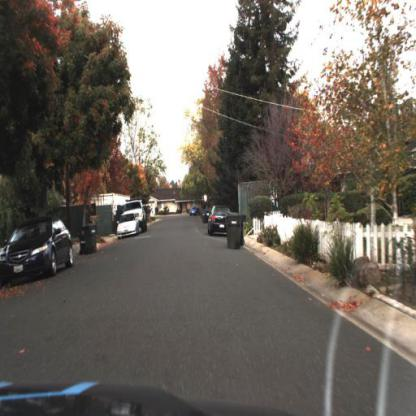car: (2, 216, 83, 299), (204, 205, 236, 238), (115, 211, 146, 242), (121, 198, 146, 226), (121, 192, 144, 217), (191, 206, 201, 217)
